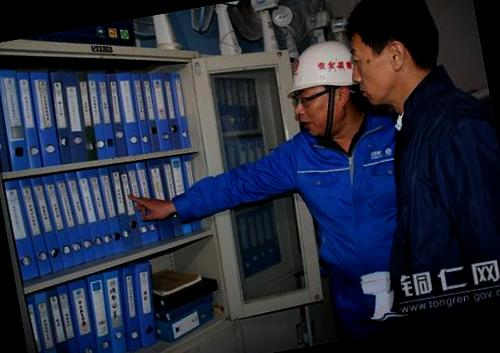no_helmet: (340, 0, 453, 112)
